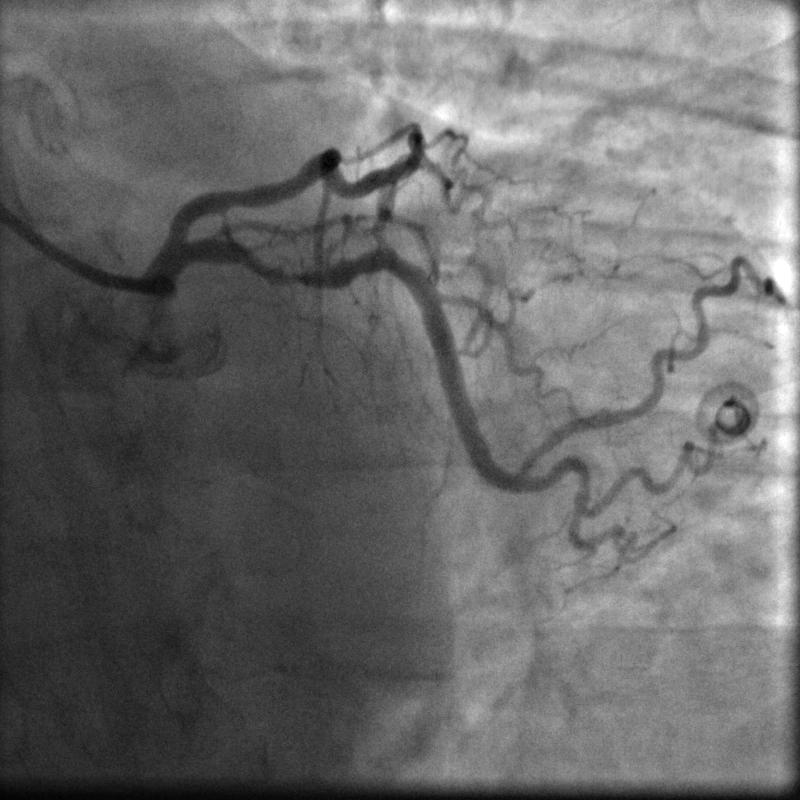Stenosis: (266, 256, 324, 290)
